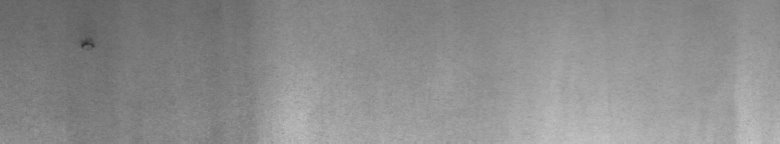fi: (77, 32, 96, 56)
